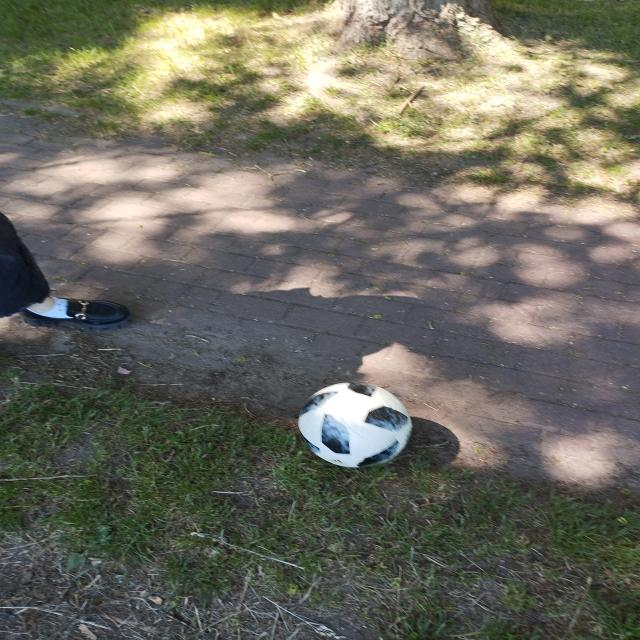nozna: (299, 381, 412, 468)
